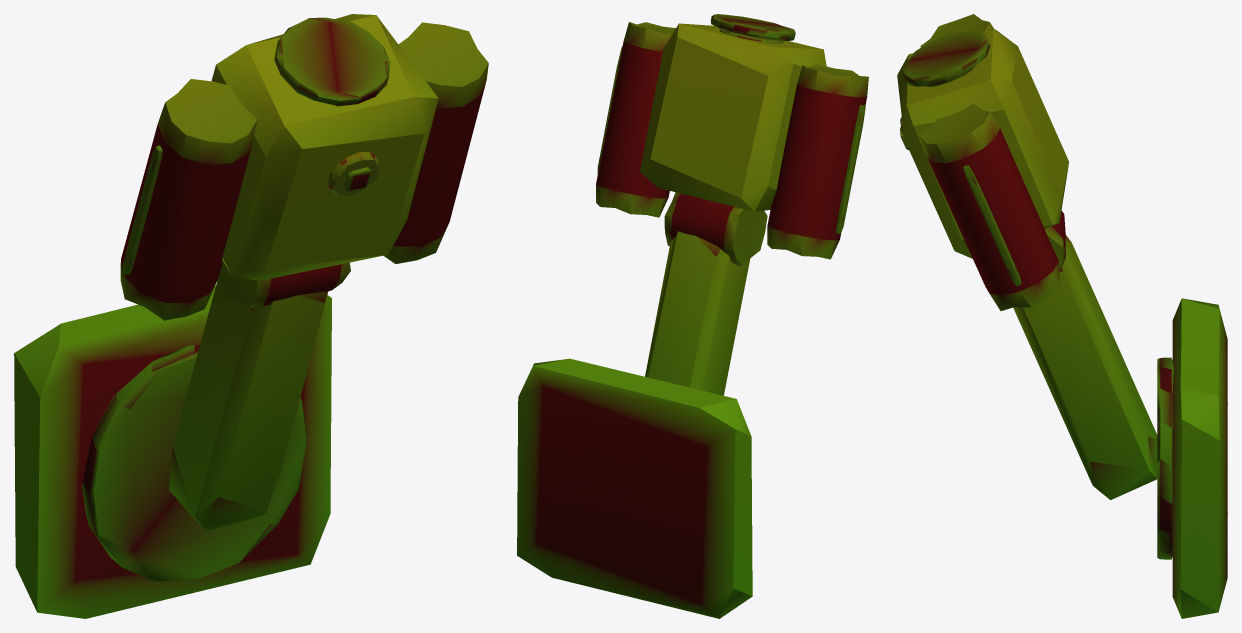
The model's file is RCLModule_field_medic_rover_nanite_repair_chitin.fbx.
3 renders of one model, left to right at view 1: azimuth 30°, elevation 25°; view 2: azimuth 150°, elevation 25°; view 3: azimuth 270°, elevation 25°, orthographic. The views are drawn at different scales.
Visible parts, largest first — view 1: RCLModule_field_medic_rover_nanite_repair_chitin_Batch_RCLMo (×3); view 2: RCLModule_field_medic_rover_nanite_repair_chitin_Batch_RCLMo (×3); view 3: RCLModule_field_medic_rover_nanite_repair_chitin_Batch_RCLMo (×3).
Boxes of the visible parts, x1,y1,x2,y2 form: RCLModule_field_medic_rover_nanite_repair_chitin_Batch_RCLMo (×3): [14, 14, 488, 618]; RCLModule_field_medic_rover_nanite_repair_chitin_Batch_RCLMo (×3): [517, 14, 868, 618]; RCLModule_field_medic_rover_nanite_repair_chitin_Batch_RCLMo (×3): [897, 14, 1227, 618].
Bounding box in the file's own units: 29.08 × 56.36 × 31.82.
